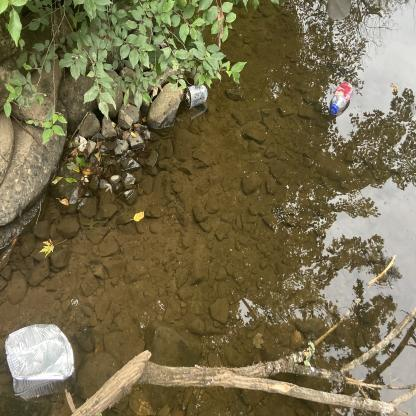trash: (1, 314, 80, 404), (325, 77, 357, 118), (180, 80, 212, 114)
